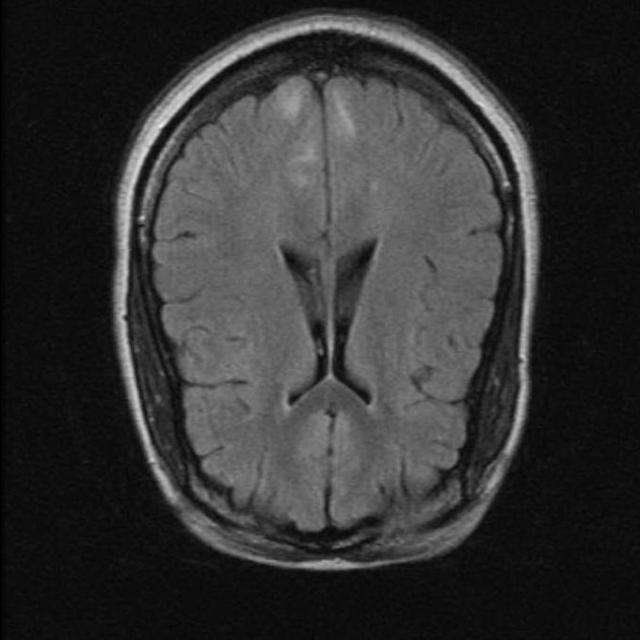notumor: (111, 11, 541, 576)
